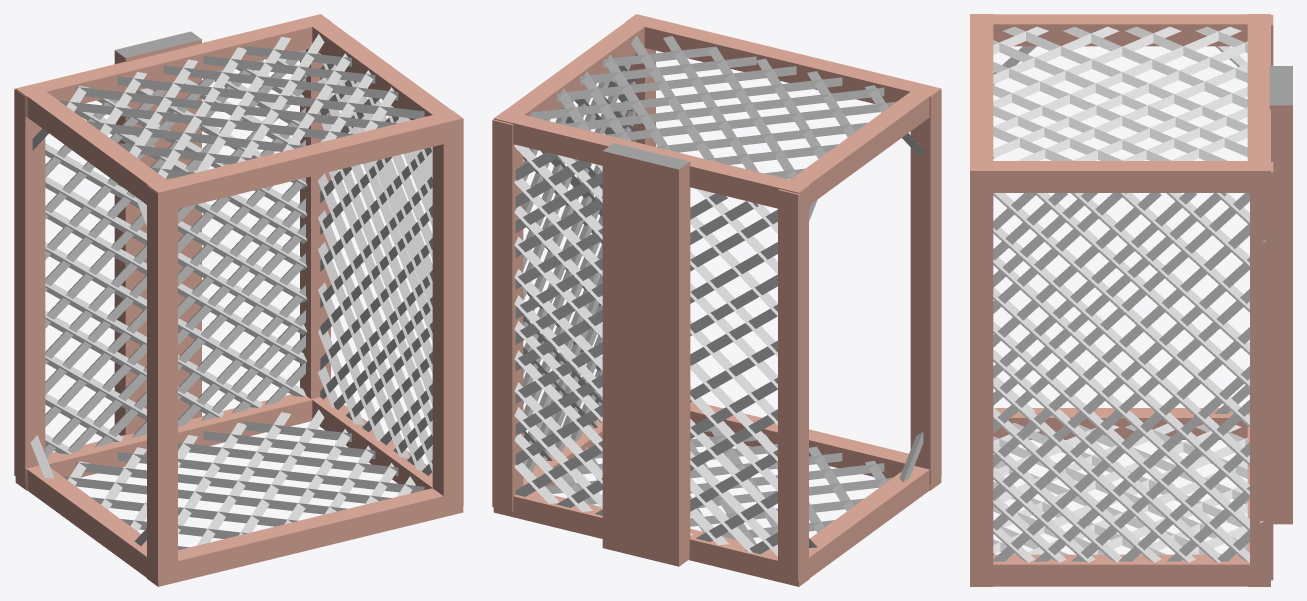
Rendered from elevator.fbx.
The picture shows the model from 3 angles, left to right: view 1: azimuth 30°, elevation 25°; view 2: azimuth 150°, elevation 25°; view 3: azimuth 270°, elevation 25°; orthographic projection. The views are drawn at different scales.
Parts seen in each view (by area): view 1: Cube_3; view 2: Cube_3; view 3: Cube_3.
Boxes of the visible parts, bbox=[...] form: Cube_3: bbox=[14, 14, 463, 586]; Cube_3: bbox=[492, 14, 941, 586]; Cube_3: bbox=[970, 14, 1292, 586].
Bounding box in the file's own units: 243 × 302 × 209.
